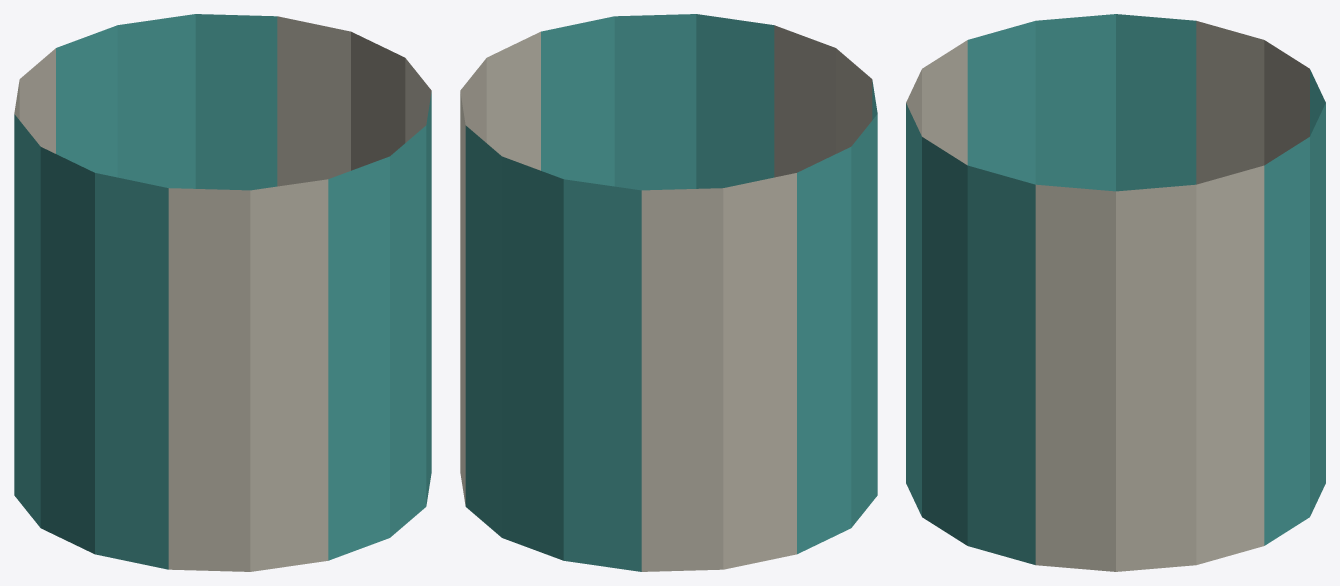
File: jeton_25.glb
The picture shows the model from 3 angles, left to right: view 1: azimuth 30°, elevation 25°; view 2: azimuth 150°, elevation 25°; view 3: azimuth 270°, elevation 25°; orthographic projection.
Visible parts, largest first — view 1: jeton_25_0; view 2: jeton_25_0; view 3: jeton_25_0.
Boxes of the visible parts, bbox=[...] form: jeton_25_0: bbox=[14, 14, 431, 571]; jeton_25_0: bbox=[460, 14, 877, 571]; jeton_25_0: bbox=[906, 14, 1325, 571].
Size of the model in its own units: 1 by 1 by 1.
